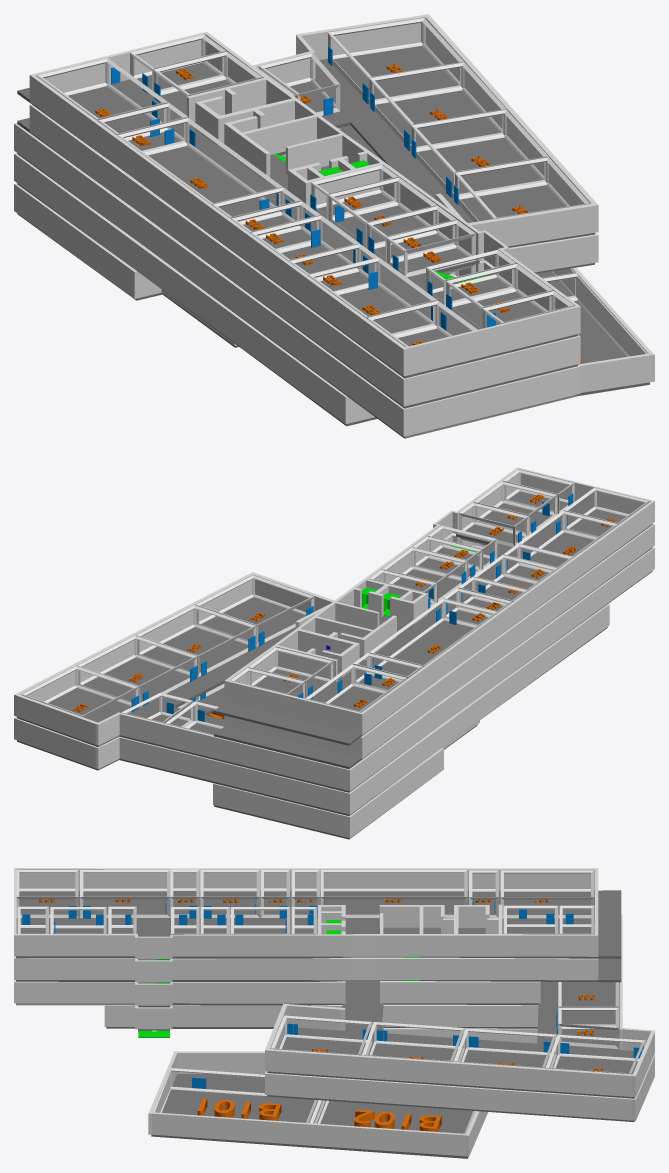
Rendered from IT5_fullModel.glb.
The picture shows the model from 3 angles, top to bottom: view 1: azimuth 30°, elevation 25°; view 2: azimuth 150°, elevation 25°; view 3: azimuth 270°, elevation 25°; orthographic projection. The views are drawn at different scales.
Visible parts, largest first — view 1: Wall.005, Wall.003, Floor.005, Floor.003, Wall.004, Wall.002, Wall.001, Wall, B102.034, B102.035, B102.036, B102.053 (+23 smaller); view 2: Wall.005, Wall.003, Floor.005, Wall.002, Floor.003, Wall.004, Wall.001, Floor.004, B102.034, B102.037, B102.035, Floor.002 (+19 smaller); view 3: Wall.005, Wall.003, Floor.005, Wall.002, Floor.003, Wall.004, Wall, Floor, B102.053, Floor.004, B102.056, B102.062 (+22 smaller).
Part boxes in pixels (left/top/right/bottom): Wall.005: left=29, top=31, right=580, bottom=376; Wall.003: left=14, top=14, right=598, bottom=436; Floor.005: left=17, top=62, right=577, bottom=378; Floor.003: left=17, top=46, right=594, bottom=438; Wall.004: left=29, top=104, right=580, bottom=406; Wall.002: left=14, top=153, right=598, bottom=424; Wall.001: left=14, top=183, right=236, bottom=345; Wall: left=553, top=267, right=654, bottom=392; B102.034: left=411, top=109, right=548, bottom=198; B102.035: left=369, top=62, right=506, bottom=151; B102.036: left=328, top=18, right=464, bottom=104; B102.053: left=117, top=118, right=282, bottom=221; Wall.005: left=224, top=467, right=654, bottom=735; Wall.003: left=14, top=547, right=654, bottom=791; Floor.005: left=214, top=491, right=652, bottom=745; Wall.002: left=14, top=604, right=609, bottom=814; Floor.003: left=17, top=571, right=652, bottom=792; Wall.004: left=224, top=524, right=654, bottom=758; Wall.001: left=213, top=720, right=479, bottom=837; Floor.004: left=214, top=544, right=652, bottom=769; B102.034: left=136, top=605, right=256, bottom=677; B102.037: left=195, top=575, right=314, bottom=646; B102.035: left=77, top=635, right=197, bottom=707; Floor.002: left=17, top=627, right=607, bottom=815; Wall.005: left=14, top=868, right=598, bottom=958; Wall.003: left=14, top=915, right=654, bottom=1097; Floor.005: left=16, top=890, right=621, bottom=958; Wall.002: left=104, top=1004, right=654, bottom=1120; Floor.003: left=16, top=980, right=637, bottom=1098; Wall.004: left=14, top=956, right=598, bottom=982; Wall: left=148, top=1051, right=488, bottom=1156; Floor: left=151, top=1074, right=472, bottom=1158; B102.053: left=320, top=870, right=467, bottom=917; Floor.004: left=16, top=956, right=621, bottom=982; B102.056: left=80, top=870, right=170, bottom=917; B102.062: left=500, top=870, right=594, bottom=918.
Size of the model in its own units: 2.3 by 0.9403 by 3.87.
